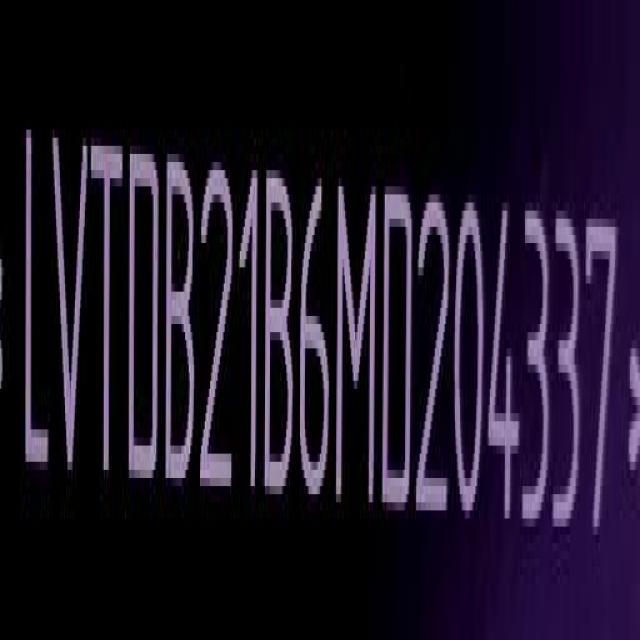0: (456, 198, 487, 525)
1: (238, 160, 259, 503)
2: (418, 188, 452, 526), (204, 159, 236, 506)
3: (524, 204, 552, 535), (557, 211, 584, 540)
4: (489, 198, 523, 533)
6: (300, 171, 334, 501)
7: (586, 211, 616, 541)
B: (164, 148, 200, 490), (264, 164, 296, 498)
D: (128, 142, 162, 488), (385, 180, 418, 519)
L: (19, 122, 50, 488)
M: (338, 174, 377, 512)
T: (94, 132, 125, 488)
V: (51, 130, 90, 490)
